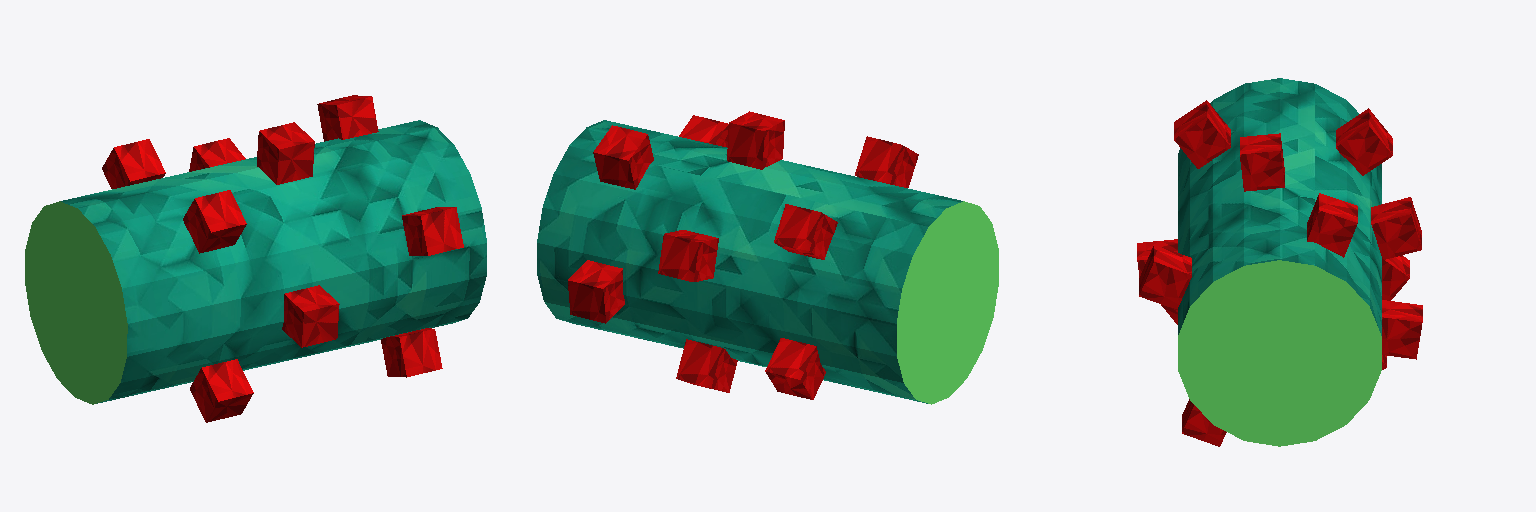
The picture shows the model from 3 angles: view 1: azimuth 30°, elevation 25°; view 2: azimuth 150°, elevation 25°; view 3: azimuth 270°, elevation 25°; orthographic projection.
Visible parts, largest first — view 1: group11 pCylinder1, group11 pasted__pasted__pCube4, group11 pasted__pCube4, group11 pasted__pCube3, group11 pCube1, group11 pasted__pCube1, group11 pasted__pasted__pCube3, pasted__pasted__pCube1 group11, group11 pasted__pCube2, group11 pasted__pasted__pasted__pCube1; view 2: group11 pCylinder1, group11 pasted__pasted__pasted__pCube2, pasted__pasted__pCube1 group11, group11 pasted__pasted__pCube4, group11 pasted__pasted__pCube2, group11 pasted__pasted__pasted__pCube1, group11 pasted__pCube2, group11 pasted__pasted__pasted__pasted__pCube1, group11 pCube1, group11 pasted__pCube1; view 3: group11 pCylinder1, group11 pCube1, group11 pasted__pCube2, group11 pasted__pCube1, group11 pasted__pasted__pasted__pCube1, group11 pasted__pasted__pCube4, pasted__pasted__pCube1 group11, group11 pasted__pasted__pasted__pCube2, group11 pasted__pasted__pCube3, group11 pasted__pasted__pCube2, group11 pasted__pCube4.
Boxes of the visible parts, <box> form: group11 pCylinder1: <box>25,120,486,404</box>; group11 pasted__pasted__pCube4: <box>257,122,314,184</box>; group11 pasted__pCube4: <box>282,285,339,347</box>; group11 pasted__pCube3: <box>190,359,253,422</box>; group11 pCube1: <box>183,190,246,253</box>; group11 pasted__pCube1: <box>402,207,463,255</box>; group11 pasted__pasted__pCube3: <box>381,328,442,377</box>; pasted__pasted__pCube1 group11: <box>317,95,378,141</box>; group11 pasted__pCube2: <box>102,139,165,188</box>; group11 pasted__pasted__pasted__pCube1: <box>189,138,245,171</box>; group11 pCylinder1: <box>537,120,998,404</box>; group11 pasted__pasted__pasted__pCube2: <box>568,260,624,323</box>; pasted__pasted__pCube1 group11: <box>593,125,653,189</box>; group11 pasted__pasted__pCube4: <box>727,111,784,169</box>; group11 pasted__pasted__pCube2: <box>765,338,825,399</box>; group11 pasted__pasted__pasted__pCube1: <box>658,230,718,281</box>; group11 pasted__pCube2: <box>774,204,837,259</box>; group11 pasted__pasted__pasted__pasted__pCube1: <box>676,339,737,392</box>; group11 pCube1: <box>855,136,918,187</box>; group11 pasted__pCube1: <box>679,115,728,147</box>; group11 pCylinder1: <box>1178,78,1381,446</box>; group11 pCube1: <box>1174,100,1230,168</box>; group11 pasted__pCube2: <box>1336,108,1392,175</box>; group11 pasted__pCube1: <box>1139,244,1191,309</box>; group11 pasted__pasted__pasted__pCube1: <box>1371,197,1421,259</box>; group11 pasted__pasted__pCube4: <box>1240,133,1284,191</box>; pasted__pasted__pCube1 group11: <box>1307,193,1357,257</box>; group11 pasted__pasted__pasted__pCube2: <box>1382,300,1422,359</box>; group11 pasted__pasted__pCube3: <box>1182,399,1226,446</box>; group11 pasted__pasted__pCube2: <box>1382,255,1409,300</box>; group11 pasted__pCube4: <box>1137,239,1177,277</box>.
Bounding box in the file's own units: 3.29 × 2.15 × 2.24.
3 materials, 2 textured.